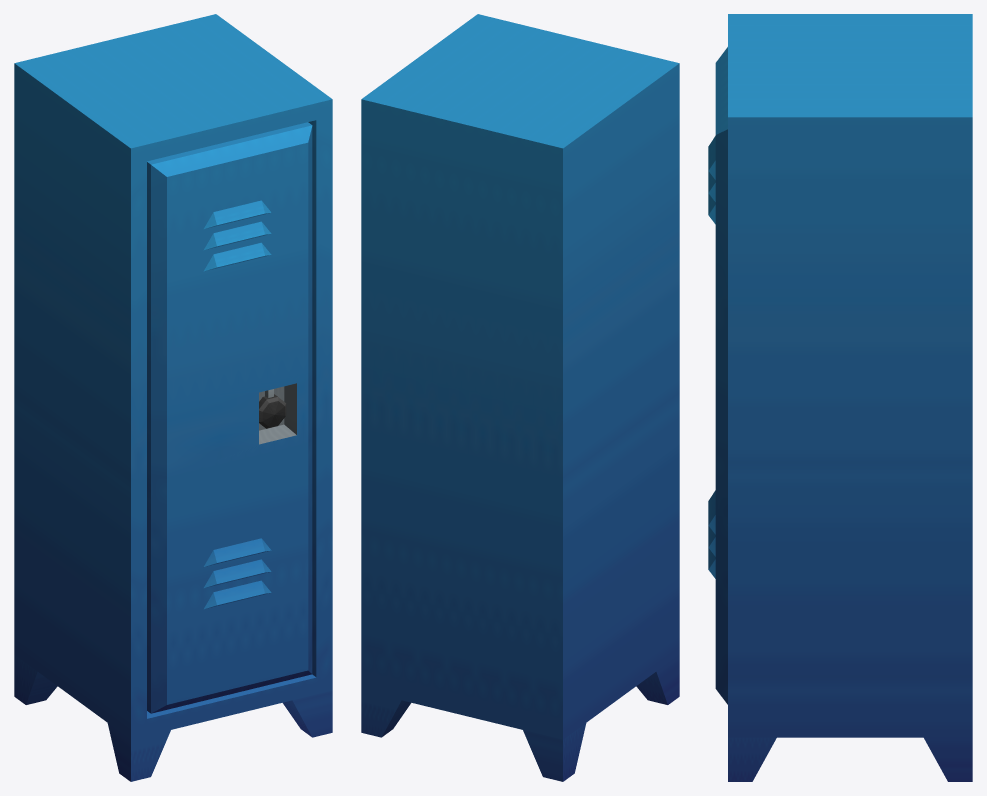
The model's file is locker.glb.
3 renders of one model, left to right at view 1: azimuth 30°, elevation 25°; view 2: azimuth 150°, elevation 25°; view 3: azimuth 270°, elevation 25°, orthographic. The views are drawn at different scales.
Visible parts, largest first — view 1: Locker, Locker_Door; view 2: Locker; view 3: Locker, Locker_Door.
Boxes of the visible parts, left/top/right/bottom form: Locker: left=14, top=14, right=332, bottom=781; Locker_Door: left=147, top=122, right=312, bottom=713; Locker: left=361, top=14, right=679, bottom=781; Locker: left=728, top=14, right=972, bottom=781; Locker_Door: left=708, top=47, right=727, bottom=704.
Size of the model in its own units: 1 by 3 by 1.08.
Materials: 1 (1 with a texture image).
